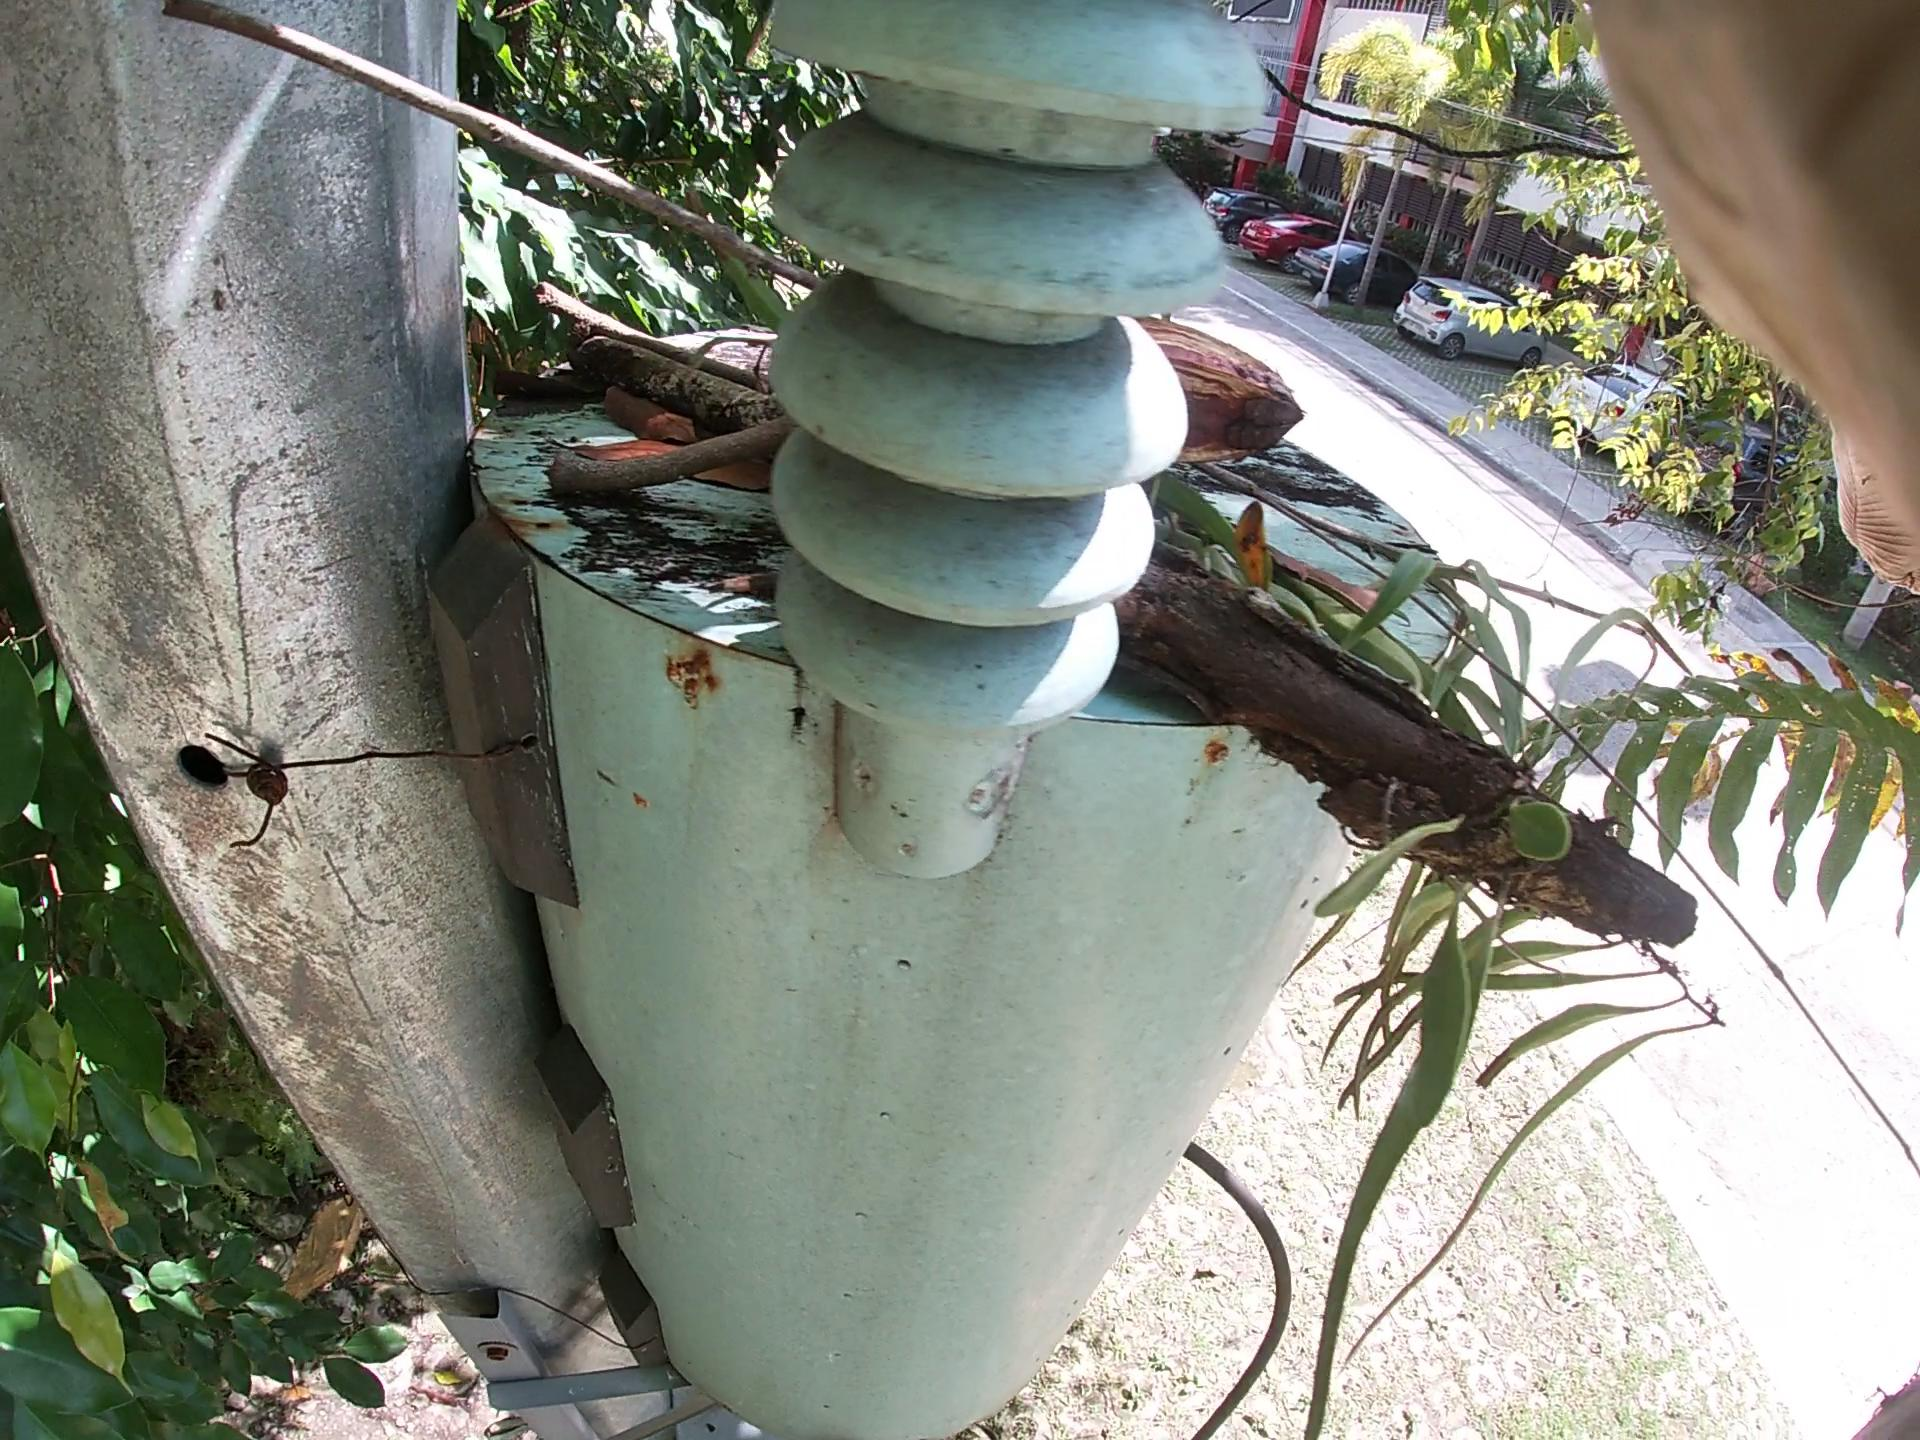branch with leaves: (581, 309, 1577, 992)
mahogany fruit: (1104, 266, 1364, 504)
tree branch: (234, 33, 1497, 687), (460, 405, 791, 579), (574, 281, 668, 369)
